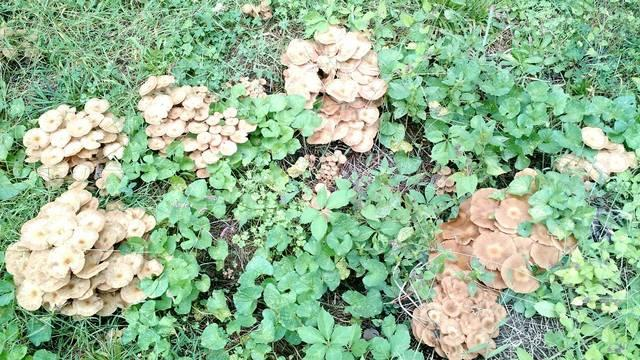edible_mushroom: (410, 167, 581, 358), (4, 183, 163, 319), (280, 23, 387, 153), (133, 73, 249, 171), (20, 99, 128, 176)
